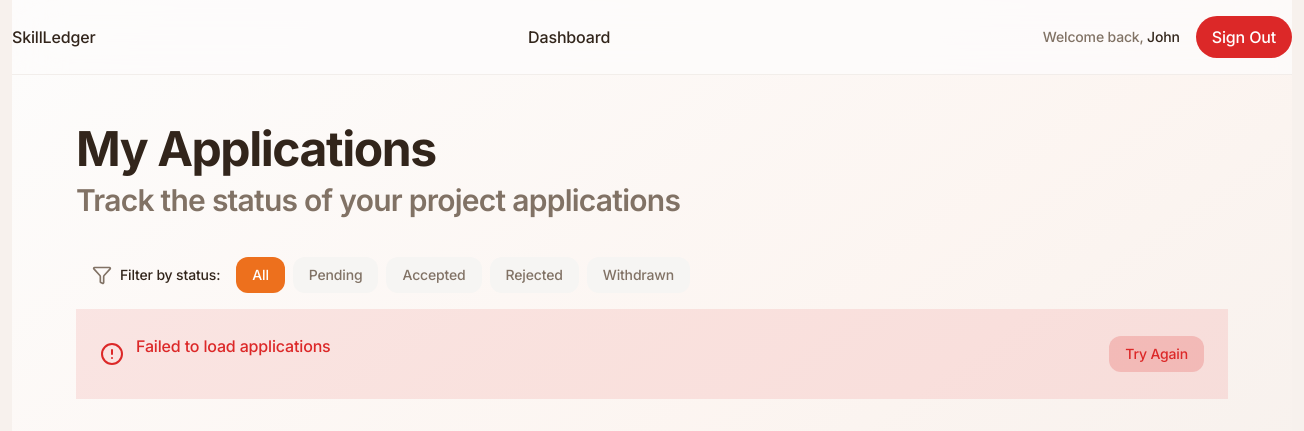
Test: MyApplicationsPage - Empty & Error States › should retry fetching applications when Try Again button is clicked
The image size is (1304, 431).
Expected: the text "Failed to load applications" is shown, [136,332,331,358]
Click Try Again button (covers line 211)
What coordinates should you click on to do the following:
click the button "Try Again"
I would click on:
 (1157, 354)
Its box is [1109,336,1204,372].
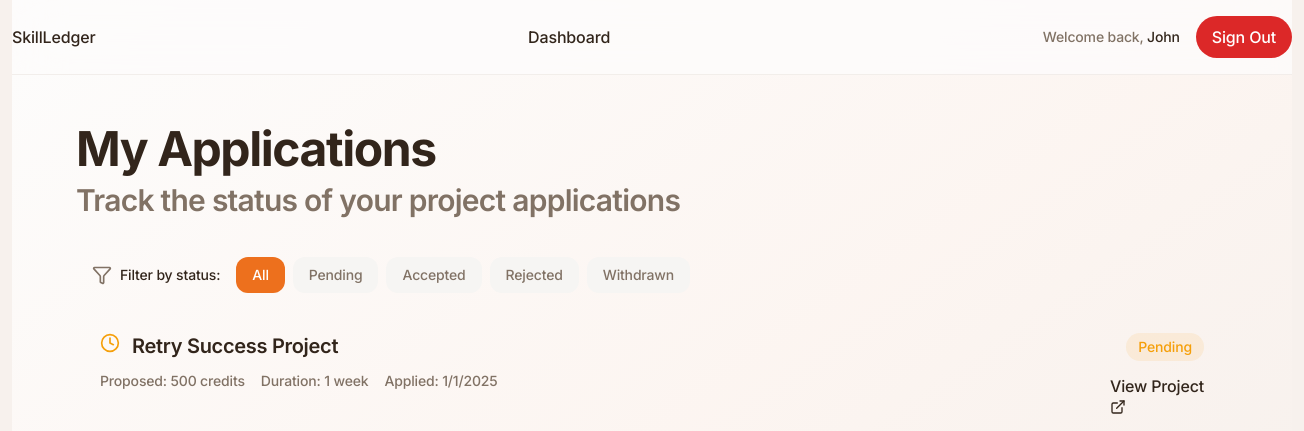
Expected: the heading "Retry Success Project" is shown, [132,332,338,358]
